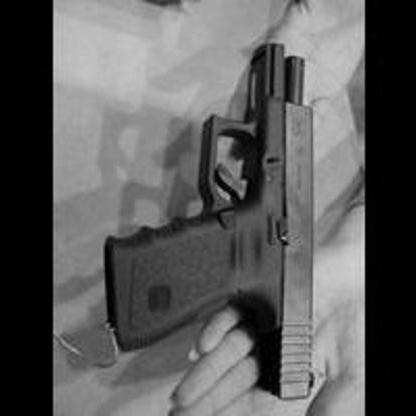weapon: (98, 36, 326, 406)
